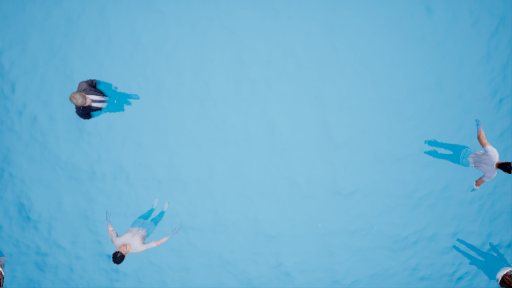person: (413, 120, 509, 194), (64, 79, 171, 139), (100, 199, 175, 266)
